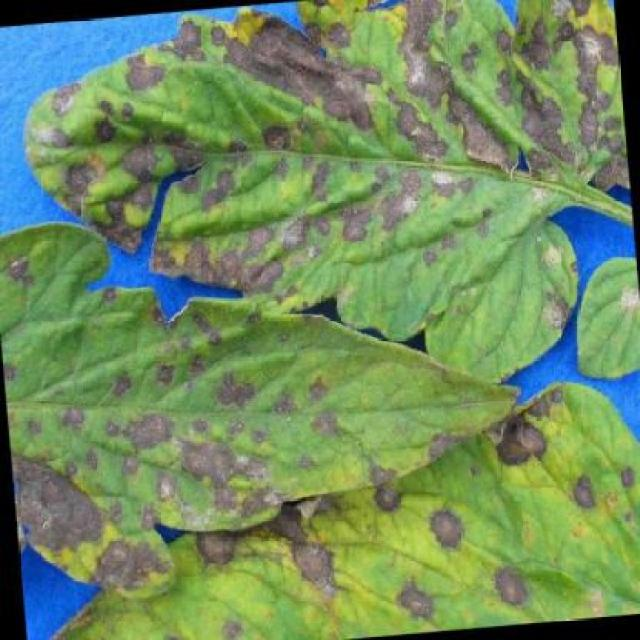Septoria leaf spot: (5, 0, 639, 415), (6, 355, 640, 639)
